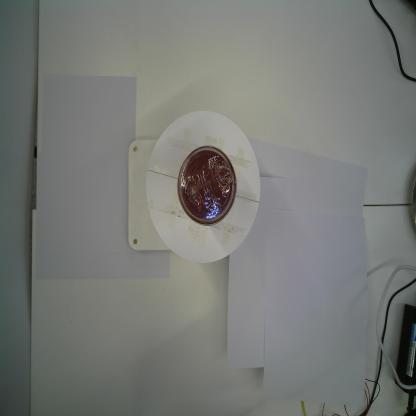Instant Drink: (177, 145, 237, 226)
